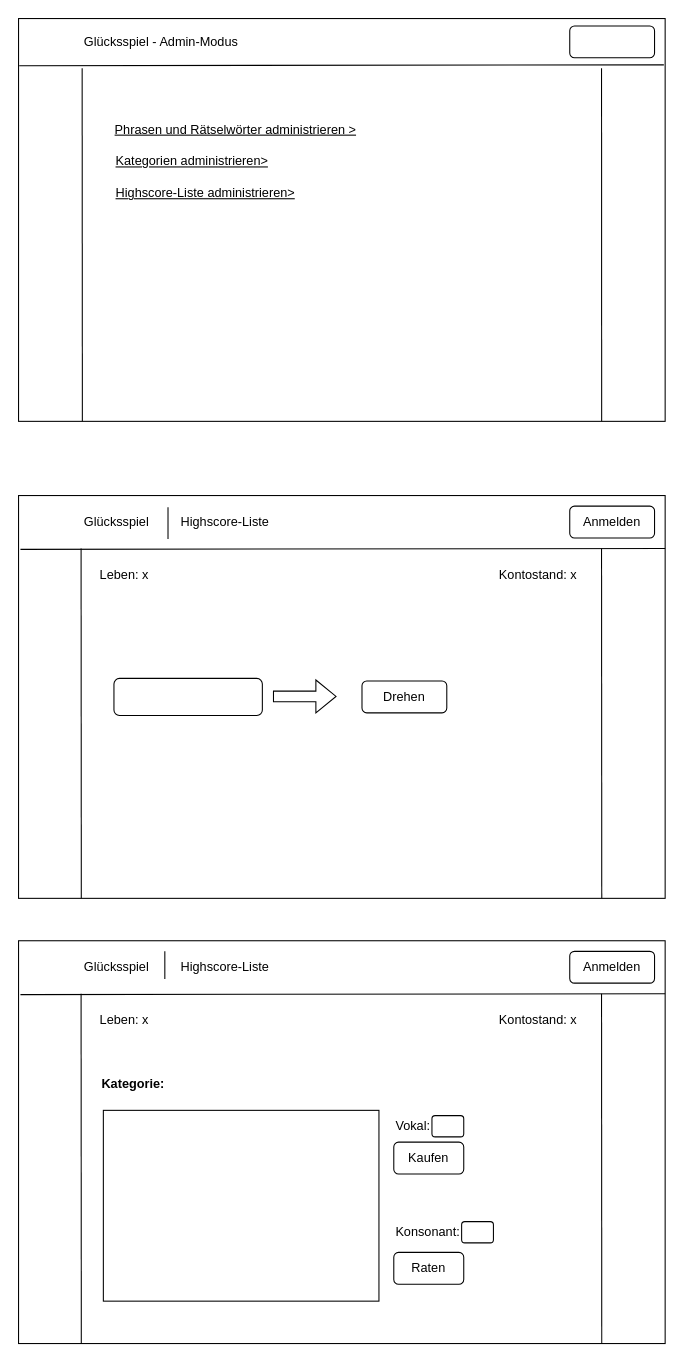
Some shapes in this 685 by 1363 pixel diagram are drawn without their labels. Each missing label, with the centre of its shape:
<-- Rätselgitter -->: the point at 240,1205
Abmelden: the point at 612,41
Geldbetrag x / Bankrott: the point at 187,696
